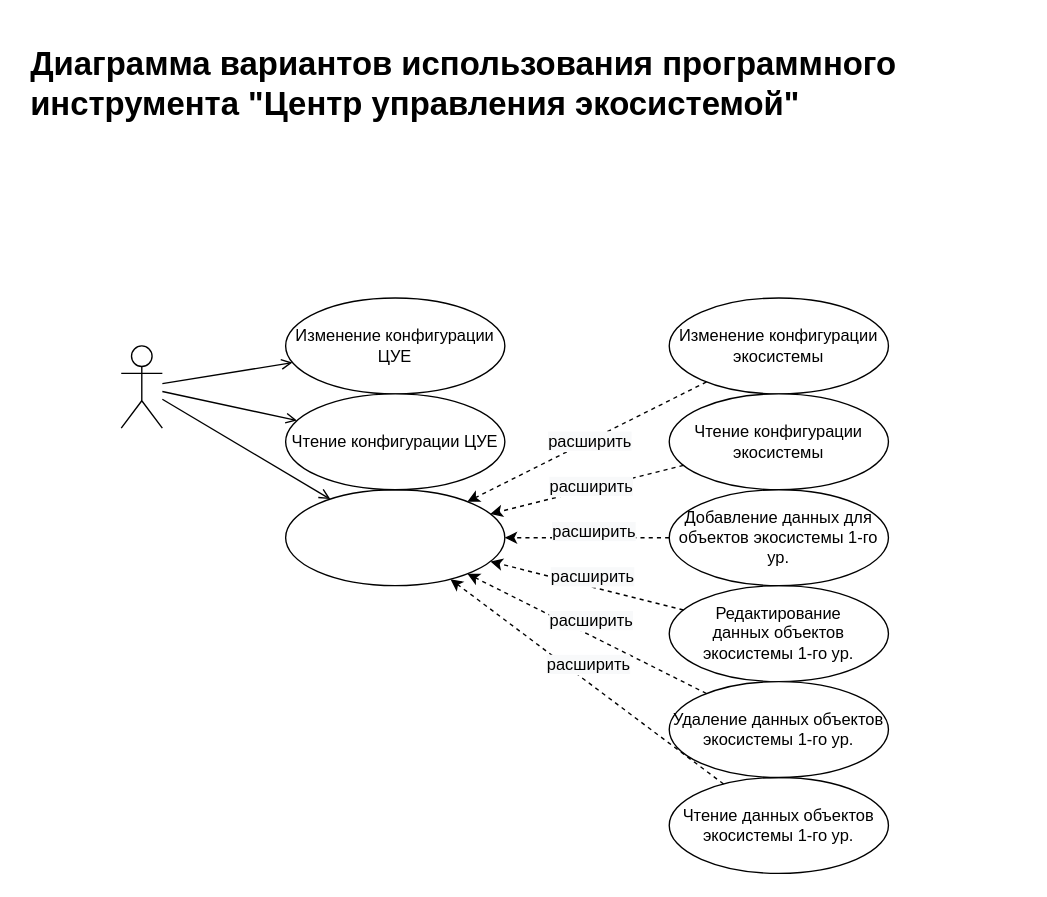
This 1047x897 diagram has some shape labels left out. The box of each missing label's shape, as (x1, y1, x2, y2) in pixels:
Взаимодействие с экосистемой: (284, 488, 505, 586)
Пользователь: (120, 345, 162, 428)
